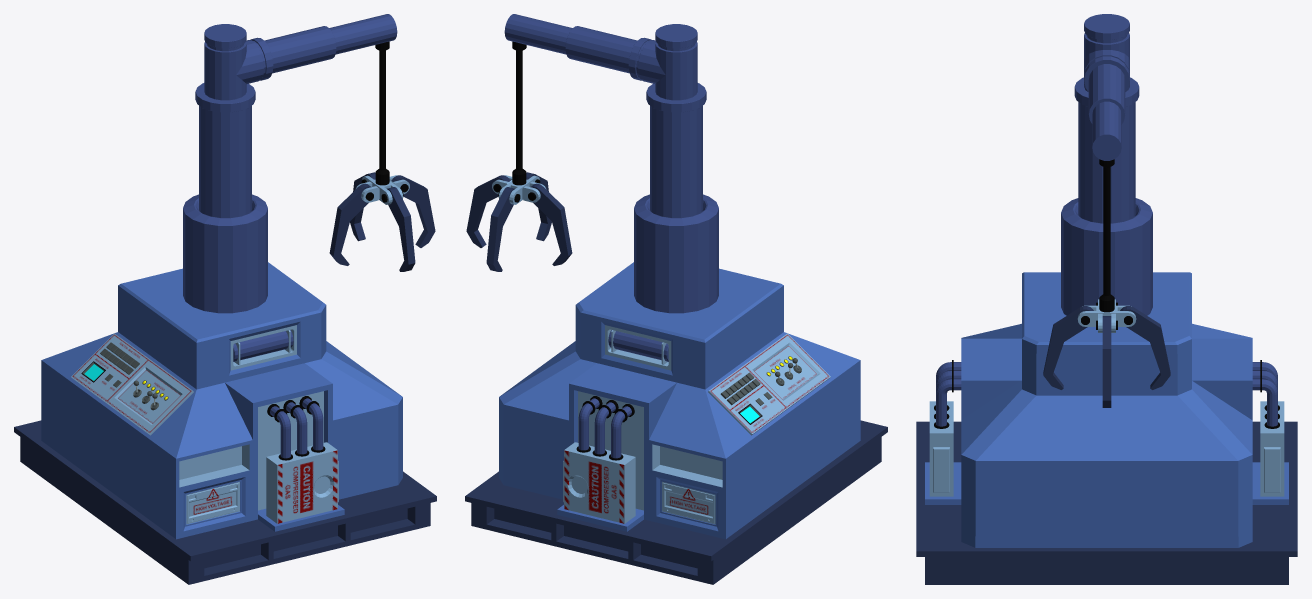
Rendered from M7_Style_B_Light.fbx.
3 renders of one model, left to right at view 1: azimuth 30°, elevation 25°; view 2: azimuth 150°, elevation 25°; view 3: azimuth 270°, elevation 25°, orthographic. The views are drawn at different scales.
Parts seen in each view (by area): view 1: M7; view 2: M7; view 3: M7.
Boxes of the visible parts, <box> form: M7: <box>14,14,436,584</box>; M7: <box>465,14,887,584</box>; M7: <box>916,14,1297,584</box>.
Size of the model in its own units: 451 by 600 by 417.
